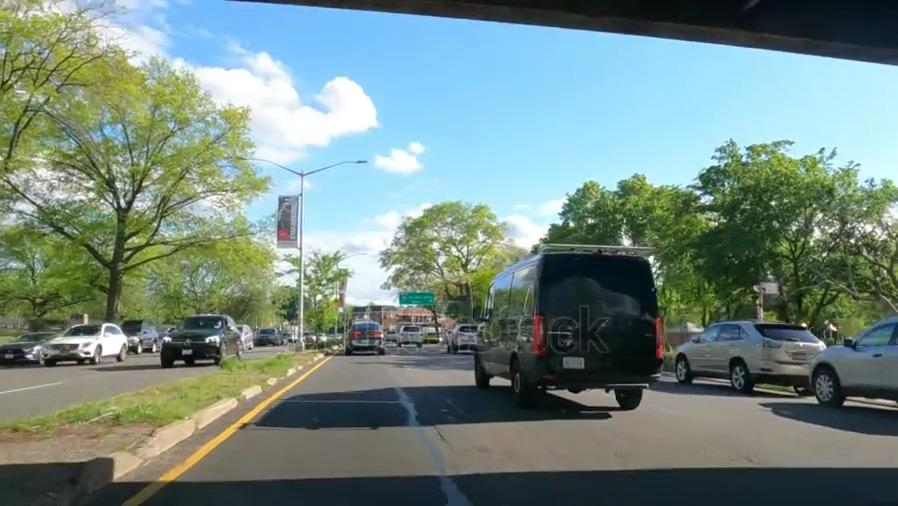car: (673, 323, 819, 389), (829, 319, 898, 409)
van: (475, 248, 660, 405), (146, 309, 250, 368), (47, 320, 126, 367), (347, 319, 384, 356), (444, 323, 475, 351), (393, 323, 425, 349)
wheel: (809, 365, 840, 406), (727, 361, 753, 393), (671, 355, 691, 382)
